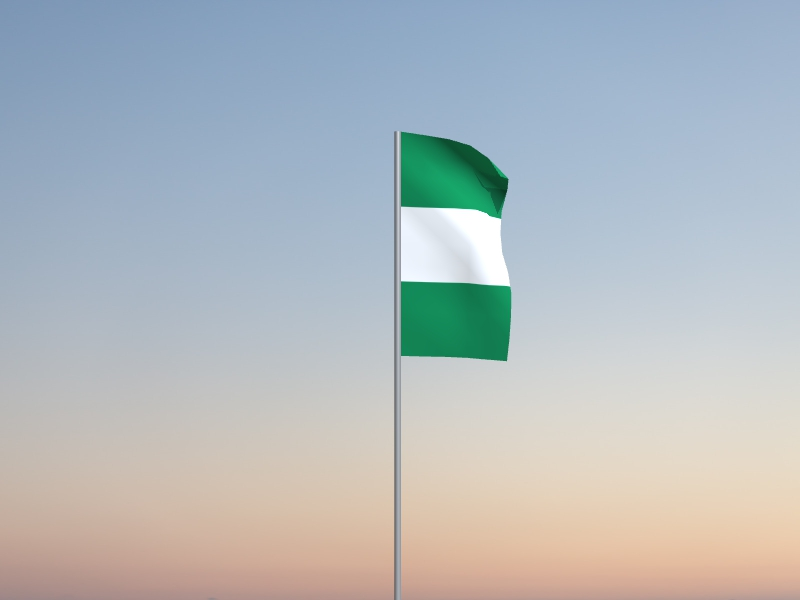ng: (401, 133, 513, 362)
